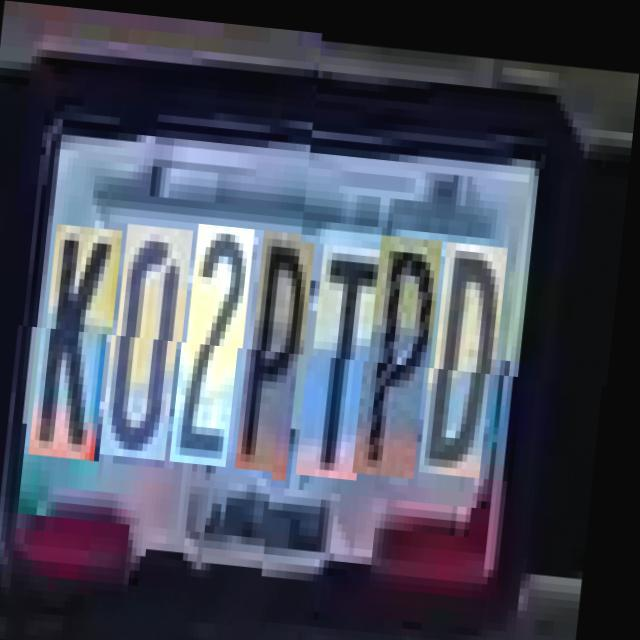0: (113, 228, 197, 464)
2: (184, 226, 258, 469)
D: (433, 232, 512, 467)
K: (42, 230, 126, 466)
P: (366, 226, 446, 469), (248, 232, 320, 474)
T: (310, 236, 389, 472)
